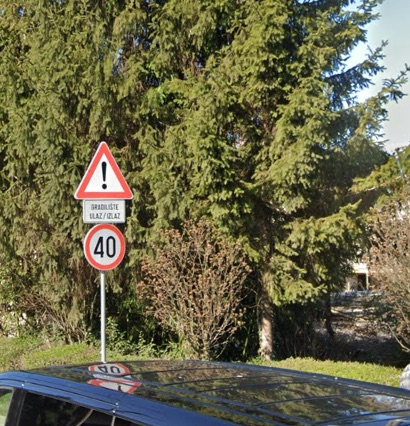Ograničenje brzine 40: (83, 224, 125, 271)
